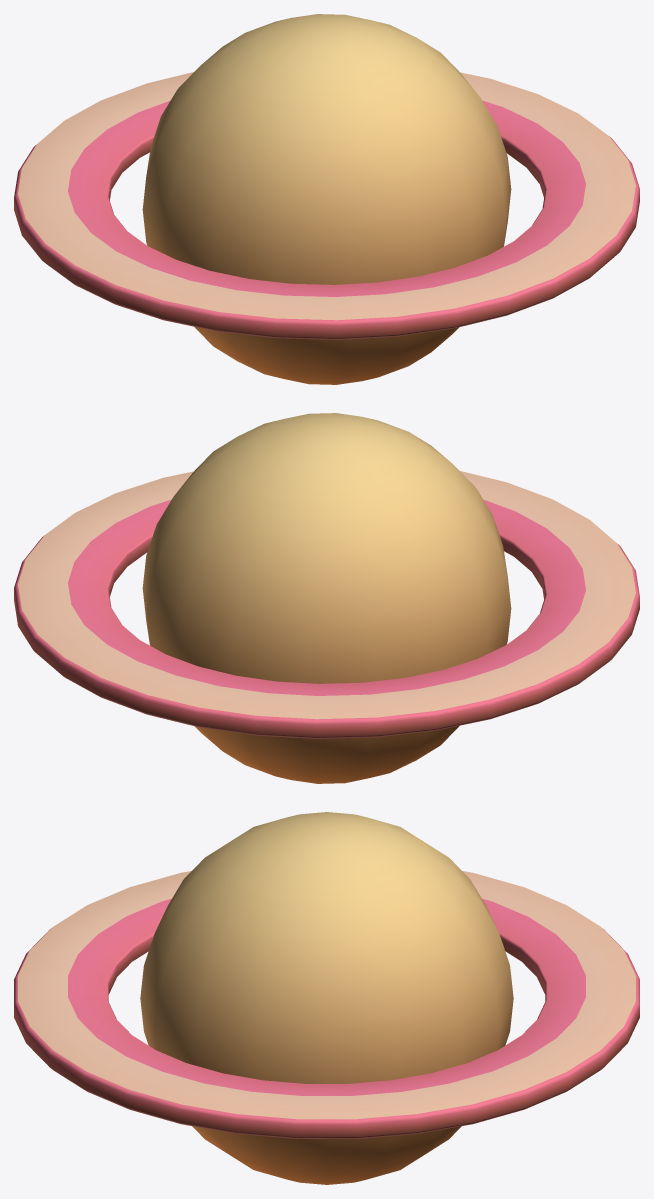
Rendered from SM_Planet.fbx.
3 views of the same model, one above another, from view 1: azimuth 30°, elevation 25°; view 2: azimuth 150°, elevation 25°; view 3: azimuth 270°, elevation 25° (orthographic).
Visible parts, largest first — view 1: SM_Planet; view 2: SM_Planet; view 3: SM_Planet.
Part boxes in pixels (x1,y1,x2,y2): SM_Planet: (14,14,639,384); SM_Planet: (14,413,639,783); SM_Planet: (14,812,639,1184).
Size of the model in its own units: 488 by 291 by 488.
